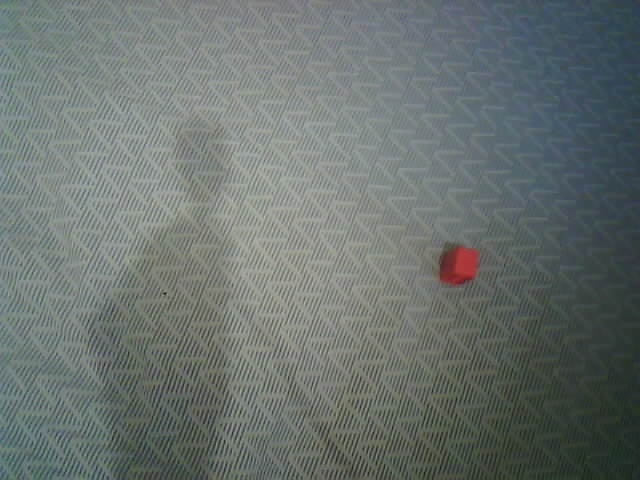lego: (439, 247, 480, 285)
